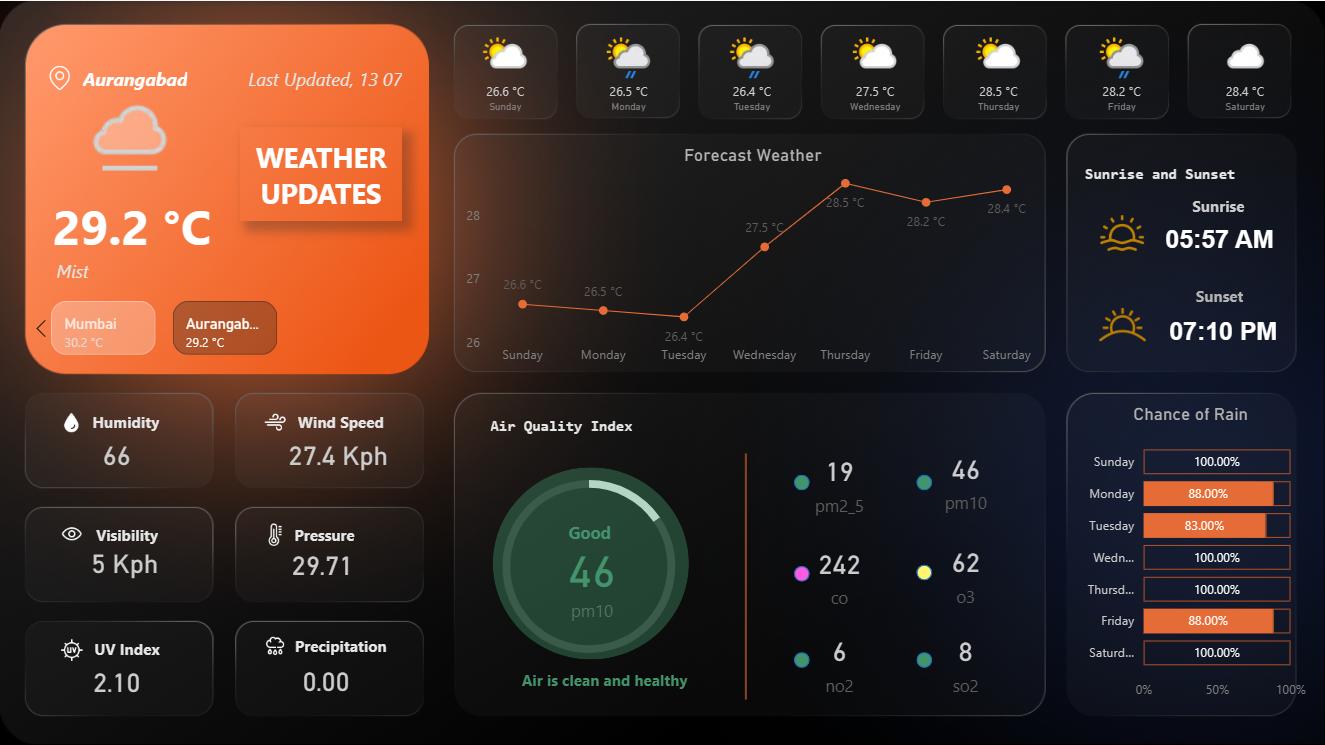

The dashboard page shown, as its layout file describes it:
{"tool":"powerbi","page":{"name":"Page 1","canvas":[1280,720],"ordinal":0},"visuals":[{"type":"advancedSlicerVisual","fields":{"Values":["location.location.name"]},"box":[25.3,284.7,386.1,62.7],"z":0},{"type":"shape","box":[51.3,184.5,167.4,63.5],"z":1000},{"type":"shape","box":[55.3,241.2,261.3,36.4],"z":2000},{"type":"shape","box":[80.6,56.2,167.4,36.6],"z":3000},{"type":"shape","box":[235.8,56.2,153.9,36.6],"z":4000},{"type":"image","box":[37.9,57.4,42.8,33],"z":5000},{"type":"cardVisual","fields":{"Data":["Min(current_data.current.condition.icon)"]},"box":[55.3,57.8,130.7,130.7],"z":6000},{"type":"image","box":[51.9,498.3,36.2,32.6],"z":7000},{"type":"shape","box":[62.7,388.5,119.4,36.2],"z":8000},{"type":"shape","box":[270.2,388.5,119.4,36.2],"z":9000},{"type":"shape","box":[63.9,497.1,119.4,36.2],"z":10000},{"type":"shape","box":[254.6,497.1,119.4,36.2],"z":11000},{"type":"shape","box":[63.9,606.8,119.4,36.2],"z":12000},{"type":"shape","box":[270.2,604.4,119.4,36.2],"z":13000},{"type":"image","box":[248.5,390.9,36.2,31.4],"z":14000},{"type":"image","box":[51.9,392.1,36.2,30.2],"z":15000},{"type":"image","box":[248.5,499.5,36.2,31.4],"z":16000},{"type":"image","box":[51.9,610.5,36.2,32.6],"z":17000},{"type":"image","box":[248.5,606.8,36.2,31.4],"z":18000},{"type":"card","fields":{"Values":["Sum(current_data.current.humidity)"]},"box":[89.1,410.1,48.8,54.9],"z":19000},{"type":"card","fields":{"Values":["_measures.wind_speed"]},"box":[266.1,410.1,122,54.9],"z":20000},{"type":"card","fields":{"Values":["_measures.humidity"]},"box":[69.6,515,102.5,54.9],"z":21000},{"type":"card","fields":{"Values":["Sum(current_data.current.uv)"]},"box":[74.4,629.8,78.1,54.9],"z":22000},{"type":"card","fields":{"Values":["Sum(current_data.current.precip_mm)"]},"box":[273.4,628.5,84.2,54.9],"z":23000},{"type":"card","fields":{"Values":["Sum(current_data.current.pressure_in)"]},"box":[277,516.2,69.6,54.9],"z":24000},{"type":"advancedSlicerVisual","fields":{"Values":["forecast_day.day_name"]},"box":[428.4,22,837.2,103.7],"z":25000},{"type":"lineChart","title":"Forecast Weather","fields":{"Category":["forecast_day.day_name"],"Y":["Sum(forecast_day.forecast.forecastday.day.avgtemp_c)"]},"box":[446.7,139.1,562.6,220.9],"z":26000},{"type":"shape","box":[1117.2,179.8,119.4,36.2],"z":27000},{"type":"shape","box":[1118.4,266.6,119.4,36.2],"z":28000},{"type":"card","fields":{"Values":["Min(forecast_day.sunrise)"]},"box":[1117.2,202.7,121.9,55.5],"z":29000},{"type":"card","fields":{"Values":["Min(forecast_day.sunset)"]},"box":[1120.8,292,121.9,55.5],"z":30000},{"type":"image","box":[1049.6,277.5,70,70],"z":31000},{"type":"image","box":[970,197.9,228,51.9],"z":32000},{"type":"shape","box":[1048.9,152.9,173.1,36.1],"z":33000},{"type":"hundredPercentStackedBarChart","title":"Chance of Rain","fields":{"Category":["forecast_day.day_name"],"Y":["Sum(forecast_day.forecast.forecastday.day.daily_chance_of_rain)","_measures.left_rain_value"]},"box":[1033.6,388.6,232.9,294.9],"z":34000},{"type":"shape","box":[456,392.1,173.7,36.2],"z":35000},{"type":"card","fields":{"Values":["Sum(current_data.current.air_quality.pm10)"]},"box":[872.6,425.1,121.8,74.6],"z":36000},{"type":"card","fields":{"Values":["Sum(current_data.current.air_quality.o3)"]},"box":[872.6,514.6,121.8,74.6],"z":37000},{"type":"card","fields":{"Values":["Sum(current_data.current.air_quality.so2)"]},"box":[872.6,600.4,121.8,74.6],"z":38000},{"type":"card","fields":{"Values":["Sum(current_data.current.air_quality.pm2_5)"]},"box":[750.7,427.6,121.8,74.6],"z":39000},{"type":"card","fields":{"Values":["Sum(current_data.current.air_quality.co)"]},"box":[750.7,515.8,121.8,74.6],"z":40000},{"type":"card","fields":{"Values":["Sum(current_data.current.air_quality.no2)"]},"box":[750.7,600.4,121.8,74.6],"z":41000},{"type":"shape","box":[885.8,457.3,15.1,15.1],"z":42000},{"type":"shape","box":[885.8,544,15.1,15.1],"z":43000},{"type":"shape","box":[885.8,628.2,15.1,15.1],"z":44000},{"type":"shape","box":[767.7,457.3,15.1,15.1],"z":45000},{"type":"shape","box":[767.7,545.3,15.1,15.1],"z":46000},{"type":"shape","box":[767.7,628.2,15.1,15.1],"z":47000},{"type":"shape","box":[629.4,437.2,182.2,237.5],"z":48000},{"type":"donutChart","fields":{"Y":["Sum(current_data.current.air_quality.pm10)","_measures.left_pm10_value"]},"box":[432.2,437.2,275.1,218.6],"z":49000},{"type":"card","fields":{"Values":["Sum(current_data.current.air_quality.pm10)"]},"box":[511.3,510.1,121.9,93],"z":50000},{"type":"shape","box":[477.6,451.6,190.4,186.1],"z":51000},{"type":"shape","box":[493.8,493.8,153.3,37.7],"z":52000},{"type":"shape","box":[232.4,121.9,155.8,90.5],"z":53000},{"type":"shape","box":[447.3,637,273.9,36.4],"z":54000}]}

Visuals, with their boxes in screenshot pixels (x1, y1, x2, y2), scaled from the page's 1280x720 canvas onto the 1325x745 screenshot:
advancedSlicerVisual - location.location.name: bbox=[26, 295, 426, 359]
shape: bbox=[53, 191, 226, 257]
shape: bbox=[57, 250, 328, 287]
shape: bbox=[83, 58, 257, 96]
shape: bbox=[244, 58, 403, 96]
image: bbox=[39, 59, 84, 94]
cardVisual - Min(current_data.current.condition.icon): bbox=[57, 60, 193, 195]
image: bbox=[54, 516, 91, 549]
shape: bbox=[65, 402, 189, 439]
shape: bbox=[280, 402, 403, 439]
shape: bbox=[66, 514, 190, 552]
shape: bbox=[264, 514, 387, 552]
shape: bbox=[66, 628, 190, 665]
shape: bbox=[280, 625, 403, 663]
image: bbox=[257, 404, 295, 437]
image: bbox=[54, 406, 91, 437]
image: bbox=[257, 517, 295, 549]
image: bbox=[54, 632, 91, 665]
image: bbox=[257, 628, 295, 660]
card - Sum(current_data.current.humidity): bbox=[92, 424, 143, 481]
card - _measures.wind_speed: bbox=[275, 424, 402, 481]
card - _measures.humidity: bbox=[72, 533, 178, 590]
card - Sum(current_data.current.uv): bbox=[77, 652, 158, 708]
card - Sum(current_data.current.precip_mm): bbox=[283, 650, 370, 707]
card - Sum(current_data.current.pressure_in): bbox=[287, 534, 359, 591]
advancedSlicerVisual - forecast_day.day_name: bbox=[443, 23, 1310, 130]
"Forecast Weather" lineChart: bbox=[462, 144, 1045, 373]
shape: bbox=[1156, 186, 1280, 224]
shape: bbox=[1158, 276, 1281, 313]
card - Min(forecast_day.sunrise): bbox=[1156, 210, 1283, 267]
card - Min(forecast_day.sunset): bbox=[1160, 302, 1286, 360]
image: bbox=[1086, 287, 1159, 360]
image: bbox=[1004, 205, 1240, 258]
shape: bbox=[1086, 158, 1265, 196]
"Chance of Rain" hundredPercentStackedBarChart: bbox=[1070, 402, 1311, 707]
shape: bbox=[472, 406, 652, 443]
card - Sum(current_data.current.air_quality.pm10): bbox=[903, 440, 1029, 517]
card - Sum(current_data.current.air_quality.o3): bbox=[903, 532, 1029, 610]
card - Sum(current_data.current.air_quality.so2): bbox=[903, 621, 1029, 698]
card - Sum(current_data.current.air_quality.pm2_5): bbox=[777, 442, 903, 520]
card - Sum(current_data.current.air_quality.co): bbox=[777, 534, 903, 611]
card - Sum(current_data.current.air_quality.no2): bbox=[777, 621, 903, 698]
shape: bbox=[917, 473, 933, 489]
shape: bbox=[917, 563, 933, 579]
shape: bbox=[917, 650, 933, 666]
shape: bbox=[795, 473, 810, 489]
shape: bbox=[795, 564, 810, 580]
shape: bbox=[795, 650, 810, 666]
shape: bbox=[652, 452, 840, 698]
donutChart - Sum(current_data.current.air_quality.pm10) x _measures.left_pm10_value: bbox=[447, 452, 732, 679]
card - Sum(current_data.current.air_quality.pm10): bbox=[529, 528, 655, 624]
shape: bbox=[494, 467, 691, 660]
shape: bbox=[511, 511, 670, 550]
shape: bbox=[241, 126, 402, 220]
shape: bbox=[463, 659, 747, 697]
